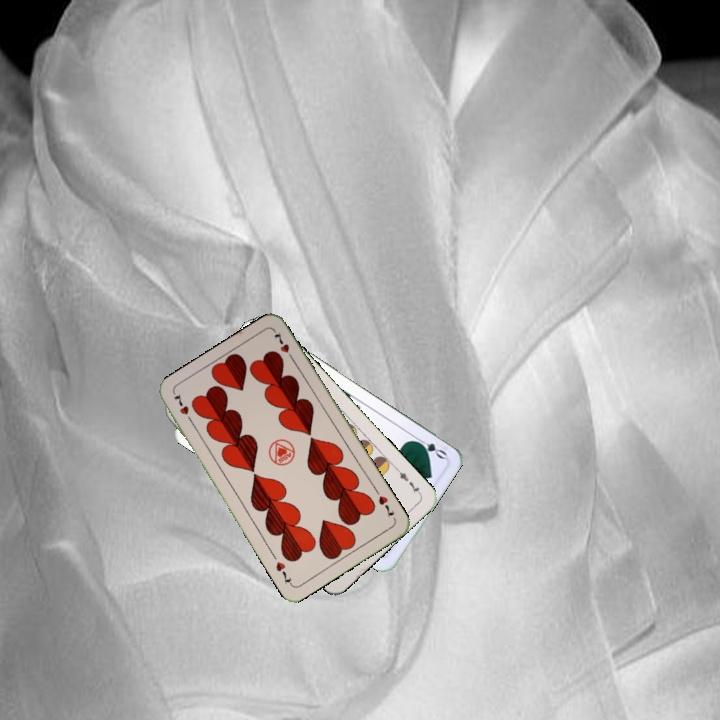E7: (393, 464, 424, 498)
GO: (410, 433, 449, 462)
H7: (170, 390, 196, 427), (371, 486, 397, 520)
